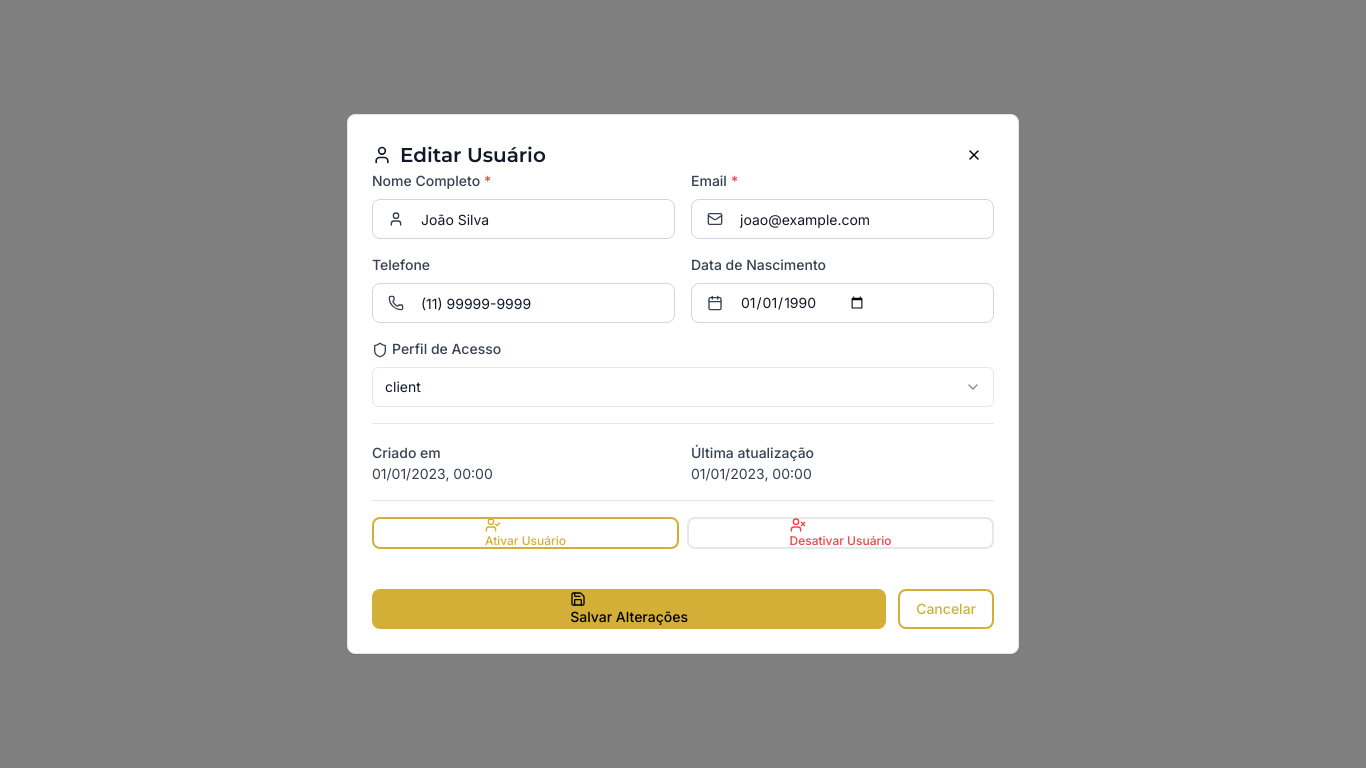
Test: UserEditModal › deve formatar telefone automaticamente
This screenshot has width=1366, height=768.
Type "11888887777" into the field showing "(11) 99999-9999" at (524, 303), box [372,283,675,323]
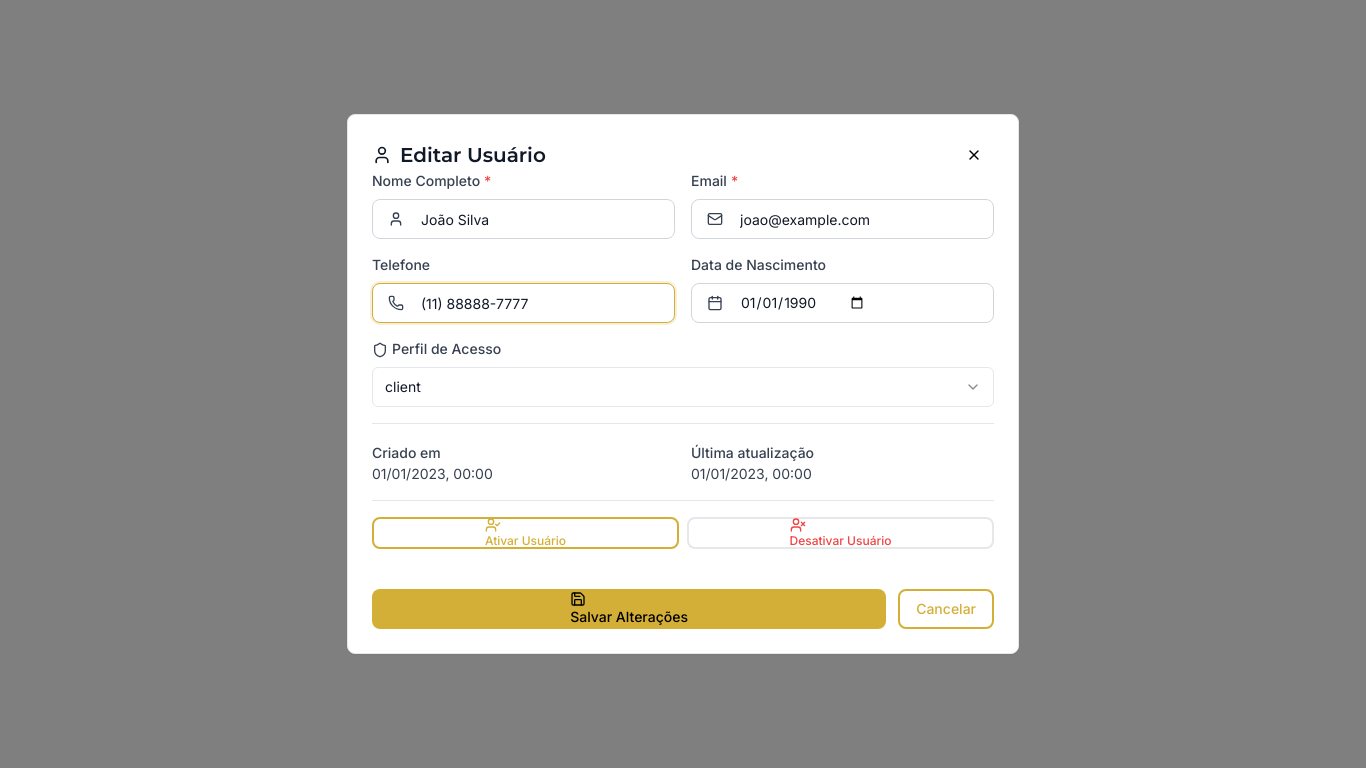
Check: the field showing "(11) 88888-7777" is shown, box [372,283,675,323]
